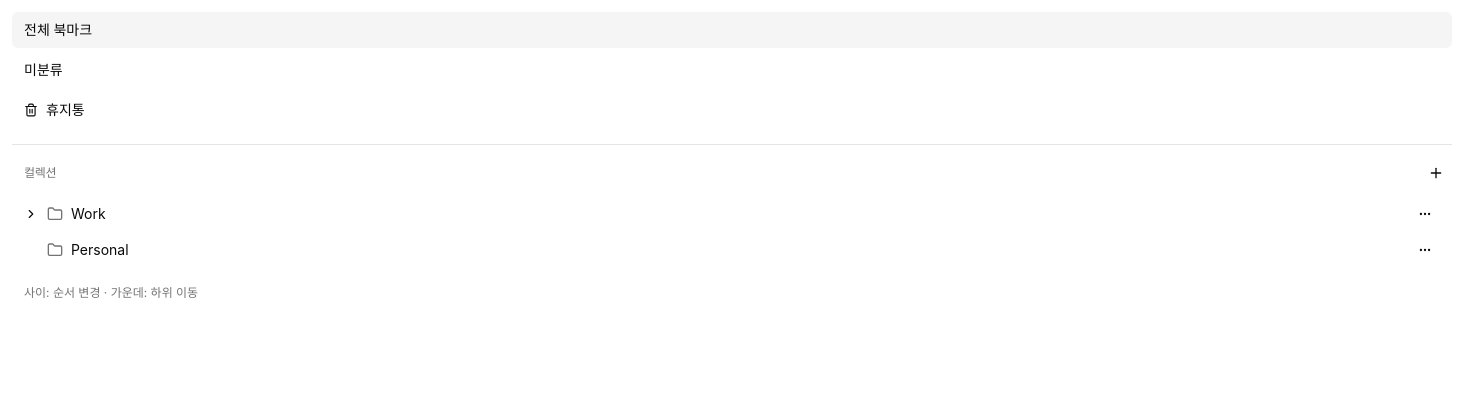
Scenario: BookmarkCollectionTree › opens 컬렉션 이동 with the correct collection and focus return target
Press ArrowDown in the button named "Work 메뉴", box left=1411, top=200, right=1439, bottom=228
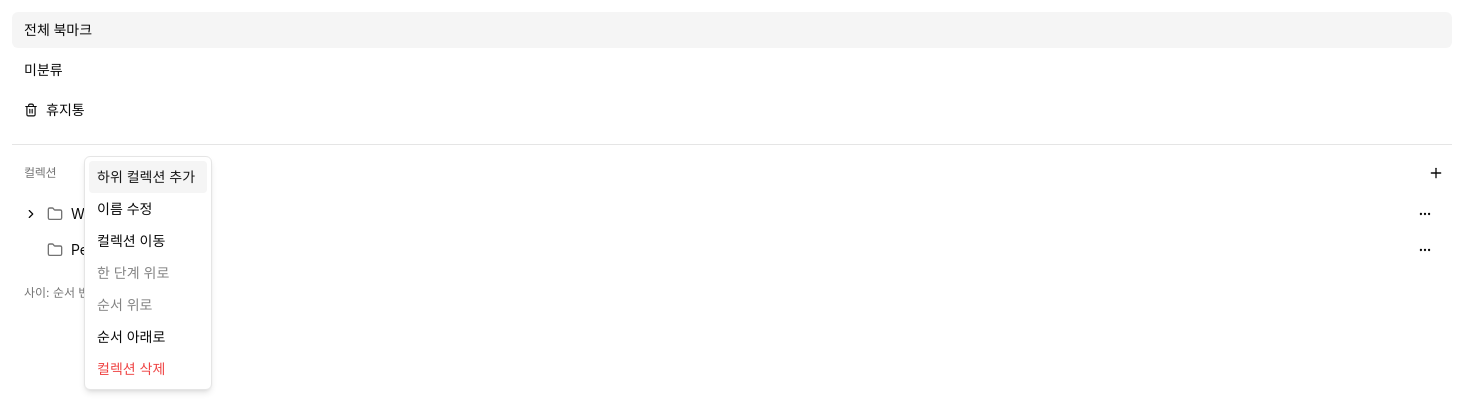
Expected: the menu is shown, left=84, top=156, right=212, bottom=390
Click the menu item "컬렉션 이동". click: (131, 240)
box: left=97, top=232, right=165, bottom=249
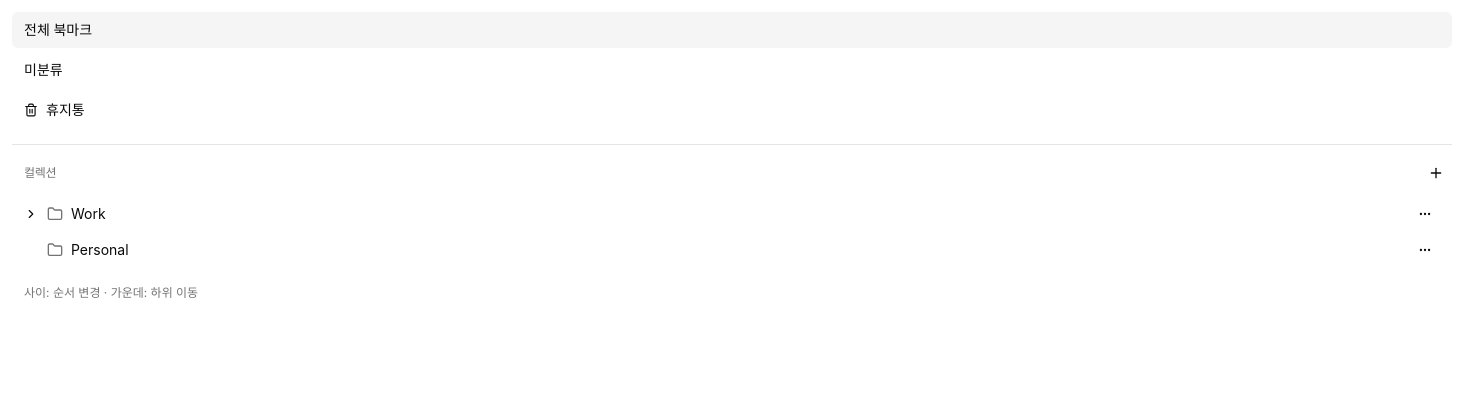
Expected: the menu is gone
